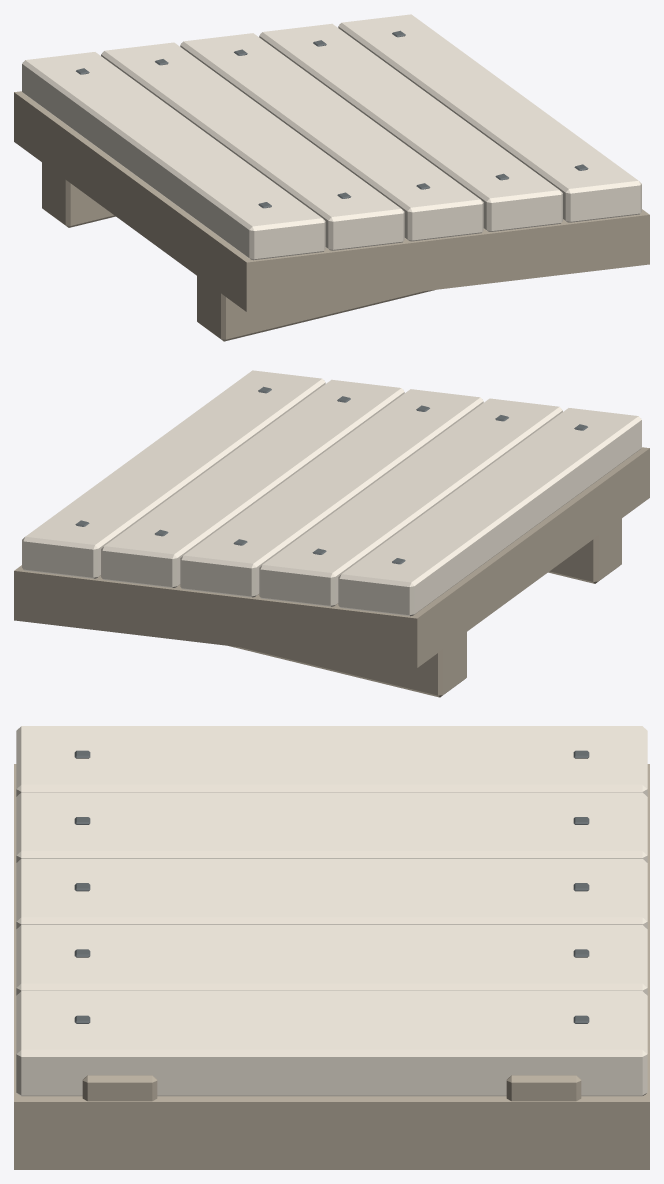
The model's file is wood_landing_end.glb.
3 renders of one model, top to bottom at view 1: azimuth 30°, elevation 25°; view 2: azimuth 150°, elevation 25°; view 3: azimuth 270°, elevation 25°, orthographic. The views are drawn at different scales.
Visible parts, largest first — view 1: wood_landing_end; view 2: wood_landing_end; view 3: wood_landing_end.
Part boxes in pixels (left/top/right/bottom): wood_landing_end: left=14, top=14, right=649, bottom=341; wood_landing_end: left=14, top=370, right=649, bottom=697; wood_landing_end: left=14, top=726, right=649, bottom=1169.
Size of the model in its own units: 1.02 by 0.3198 by 1.02.
